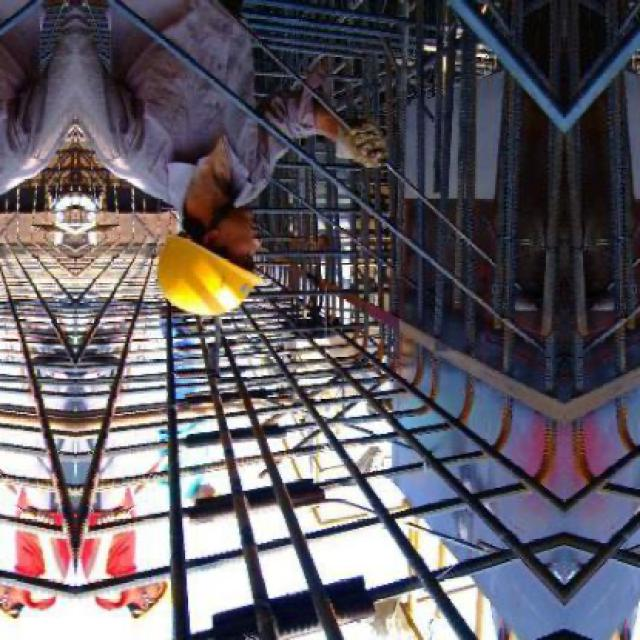con casco: (146, 232, 294, 338)
